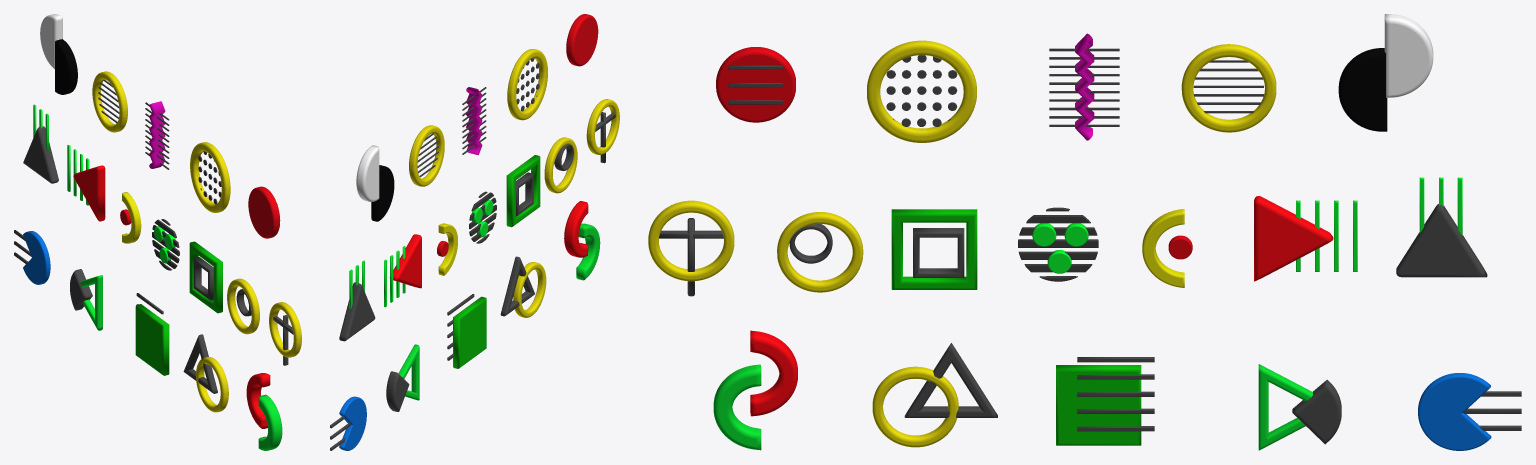
Rendered from Memphis style 2.fbx.
3 views of the same model, side by side, from view 1: azimuth 30°, elevation 25°; view 2: azimuth 150°, elevation 25°; view 3: azimuth 270°, elevation 25° (orthographic). The views are drawn at different scales.
Parts seen in each view (by area): view 1: viivat2, pymp.001, ympyrät, neliö3, ympyrä2, C2.001, kolmio, ympyrä3, viivat4, viiva.001, ympyrä1, kolmio2 (+5 smaller); view 2: viivat2, pymp.001, neliö3, ympyrät, C2.001, ympyrä2, kolmio, ympyrä3, viivat4, kolmio2, viiva.001, ympyrä1 (+5 smaller); view 3: viivat2, pymp.001, ympyrät, neliö3, ympyrä2, pacman, kolmio, ympyrä1, C2.001, viivat4, ympyrä3, ympyrä5 (+5 smaller).
Boxes of the visible parts, box(x1,y1,x2,y2) form: viivat2: box(135, 293, 169, 375); pymp.001: box(40, 14, 77, 94); ympyrät: box(190, 142, 230, 212); neliö3: box(189, 241, 222, 313); ympyrä2: box(183, 334, 228, 412); C2.001: box(246, 373, 282, 450); kolmio: box(67, 145, 105, 221); ympyrä3: box(92, 71, 127, 132); viivat4: box(23, 104, 58, 183); viiva.001: box(269, 302, 301, 365); ympyrä1: box(248, 186, 280, 238); kolmio2: box(70, 269, 102, 330); viivat2: box(447, 294, 486, 368); pymp.001: box(356, 145, 394, 221); neliö3: box(506, 155, 540, 227); ympyrät: box(507, 49, 547, 120); C2.001: box(564, 201, 600, 280); ympyrä2: box(500, 256, 546, 317); kolmio: box(384, 234, 421, 307); ympyrä3: box(409, 125, 444, 186); viivat4: box(339, 260, 375, 341); kolmio2: box(386, 344, 419, 411); viiva.001: box(586, 99, 619, 163); ympyrä1: box(566, 14, 598, 66); viivat2: box(1056, 357, 1154, 445); pymp.001: box(1338, 14, 1433, 131); ympyrät: box(867, 40, 976, 142); neliö3: box(891, 209, 977, 289); ympyrä2: box(872, 343, 997, 447); pacman: box(1418, 373, 1521, 450); kolmio: box(1254, 196, 1357, 281); ympyrä1: box(716, 47, 795, 122); C2.001: box(713, 330, 797, 450); viivat4: box(1396, 177, 1487, 277); ympyrä3: box(1181, 44, 1276, 132); ympyrä5: box(1018, 207, 1098, 281).
Size of the model in its own units: 48 by 1066 by 1944.
